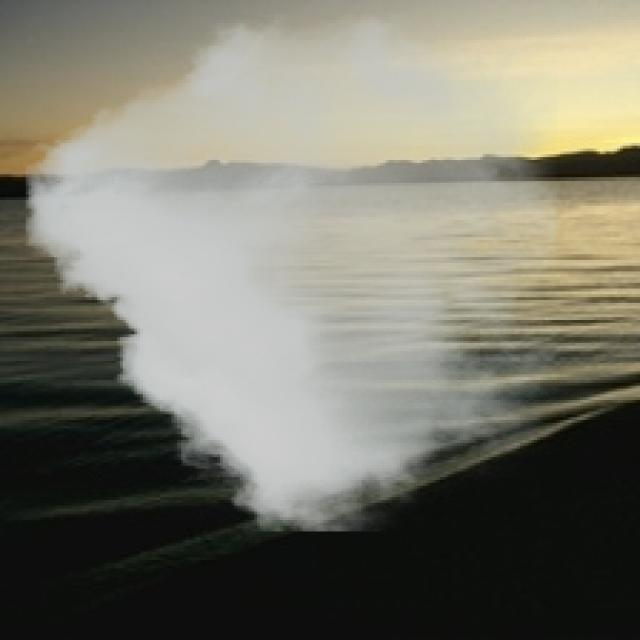Smoke: (25, 14, 558, 532)
